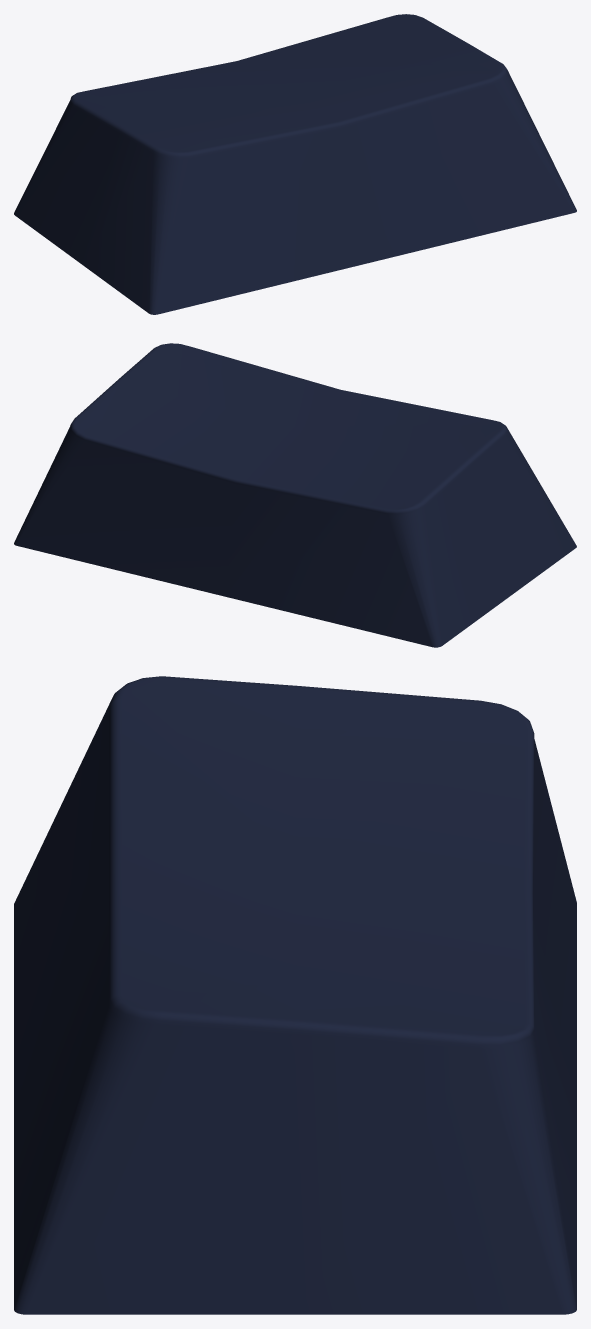
File: cherry15u.glb
3 renders of one model, top to bottom at view 1: azimuth 30°, elevation 25°; view 2: azimuth 150°, elevation 25°; view 3: azimuth 270°, elevation 25°, orthographic. The views are drawn at different scales.
Parts seen in each view (by area): view 1: R3_1.75U_Mesh; view 2: R3_1.75U_Mesh; view 3: R3_1.75U_Mesh.
Part boxes in pixels (box(x1,y1,x2,y2)): R3_1.75U_Mesh: box(14, 14, 576, 314); R3_1.75U_Mesh: box(14, 343, 576, 647); R3_1.75U_Mesh: box(14, 676, 576, 1314).
Bounding box in the file's own units: 0.0316 × 0.00926 × 0.018.
